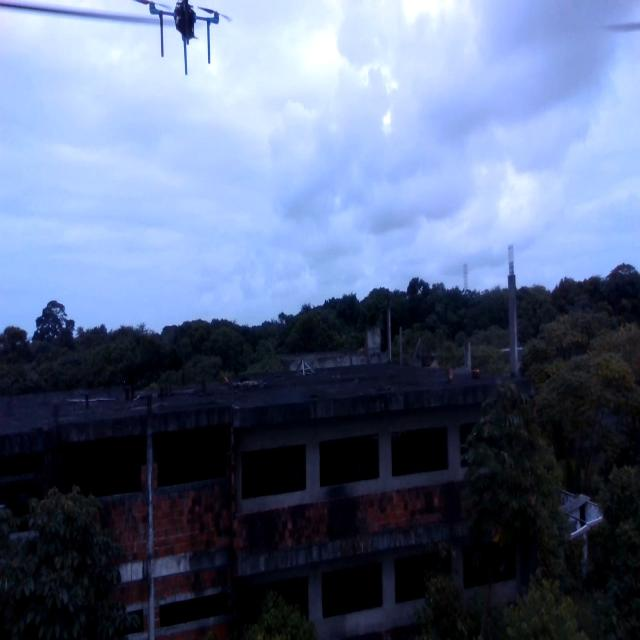-uav-: (140, 0, 232, 86)
